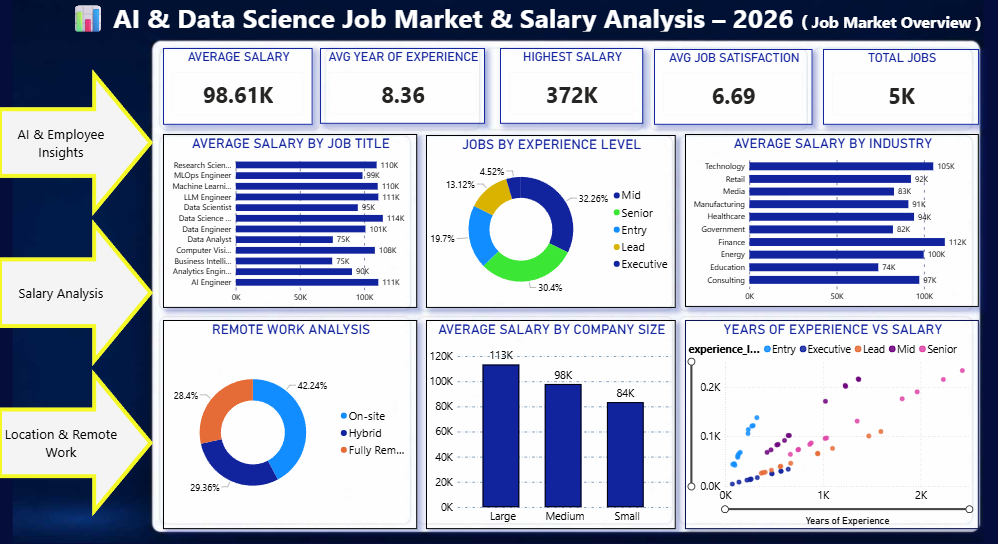

Layout of this report page (visuals, bound fields, positions):
{"tool":"powerbi","page":{"name":"Job Market Overview","canvas":[2020,1110],"ordinal":0},"visuals":[{"type":"cardVisual","title":"TOTAL JOBS","fields":{"Data":["AI_Jobs_2026.Total Jobs"]},"box":[1665,104.3,315.2,153.2],"z":0},{"type":"cardVisual","title":"AVERAGE SALARY","fields":{"Data":["AI_Jobs_2026.Average Salary"]},"box":[333,102.1,301.9,155.4],"z":1000},{"type":"cardVisual","title":"HIGHEST SALARY","fields":{"Data":["AI_Jobs_2026.Highest Salary"]},"box":[1012.3,102.1,288.6,153.2],"z":2000},{"type":"cardVisual","title":"AVG YEAR OF EXPERIENCE","fields":{"Data":["AI_Jobs_2026.Average Experience"]},"box":[650.5,102.1,333,153.2],"z":3000},{"type":"cardVisual","title":"AVG JOB SATISFACTION","fields":{"Data":["AI_Jobs_2026.Average Satisfaction"]},"box":[1323.1,104.3,319.7,153.2],"z":4000},{"type":"donutChart","title":"JOBS BY EXPERIENCE LEVEL","fields":{"Category":["AI_Jobs_2026.experience_level"],"Y":["AI_Jobs_2026.Total Jobs"]},"box":[863.6,277.5,503.9,348.5],"z":5000},{"type":"clusteredBarChart","title":"AVERAGE SALARY BY INDUSTRY","fields":{"Category":["AI_Jobs_2026.industry"],"Y":["AI_Jobs_2026.Average Salary"]},"box":[1386.5,276.5,593.3,349.1],"z":6000},{"type":"donutChart","title":"REMOTE WORK ANALYSIS","fields":{"Category":["AI_Jobs_2026.Remote Work Type"],"Y":["AI_Jobs_2026.Total Jobs"]},"box":[333,652.7,512.8,421.8],"z":7000},{"type":"columnChart","title":"AVERAGE SALARY BY COMPANY SIZE","fields":{"Category":["AI_Jobs_2026.Company Size Full"],"Y":["AI_Jobs_2026.Average Salary"]},"box":[863.6,652.7,503.9,421.8],"z":8000},{"type":"scatterChart","title":"YEARS OF EXPERIENCE VS SALARY","fields":{"Y":["Count(AI_Jobs_2026.salary_usd)"],"X":["Sum(AI_Jobs_2026.years_experience)"],"Series":["AI_Jobs_2026.experience_level"],"Category":["AI_Jobs_2026.job_title"]},"box":[1386.5,651.9,593.3,421.8],"z":9000},{"type":"textbox","box":[102.9,0,1933.4,74.7],"z":10000},{"type":"clusteredBarChart","title":"AVERAGE SALARY BY JOB TITLE","fields":{"Y":["AI_Jobs_2026.Average Salary"],"Category":["AI_Jobs_2026.job_title"]},"box":[333,276.5,512.6,351.2],"z":11000},{"type":"pageNavigator","box":[0,144.3,313,905.8],"z":15000}]}

Visuals, with their boxes in screenshot pixels (x1, y1, x2, y2), scaled from the page's 2020x1110 canvas onto the 998x544 screenshot:
"TOTAL JOBS" cardVisual: Rect(823, 51, 978, 126)
"AVERAGE SALARY" cardVisual: Rect(165, 50, 314, 126)
"HIGHEST SALARY" cardVisual: Rect(500, 50, 643, 125)
"AVG YEAR OF EXPERIENCE" cardVisual: Rect(321, 50, 486, 125)
"AVG JOB SATISFACTION" cardVisual: Rect(654, 51, 812, 126)
"JOBS BY EXPERIENCE LEVEL" donutChart: Rect(427, 136, 676, 307)
"AVERAGE SALARY BY INDUSTRY" clusteredBarChart: Rect(685, 136, 978, 307)
"REMOTE WORK ANALYSIS" donutChart: Rect(165, 320, 418, 527)
"AVERAGE SALARY BY COMPANY SIZE" columnChart: Rect(427, 320, 676, 527)
"YEARS OF EXPERIENCE VS SALARY" scatterChart: Rect(685, 319, 978, 526)
textbox: Rect(51, 0, 997, 37)
"AVERAGE SALARY BY JOB TITLE" clusteredBarChart: Rect(165, 136, 418, 308)
pageNavigator: Rect(0, 71, 155, 515)
